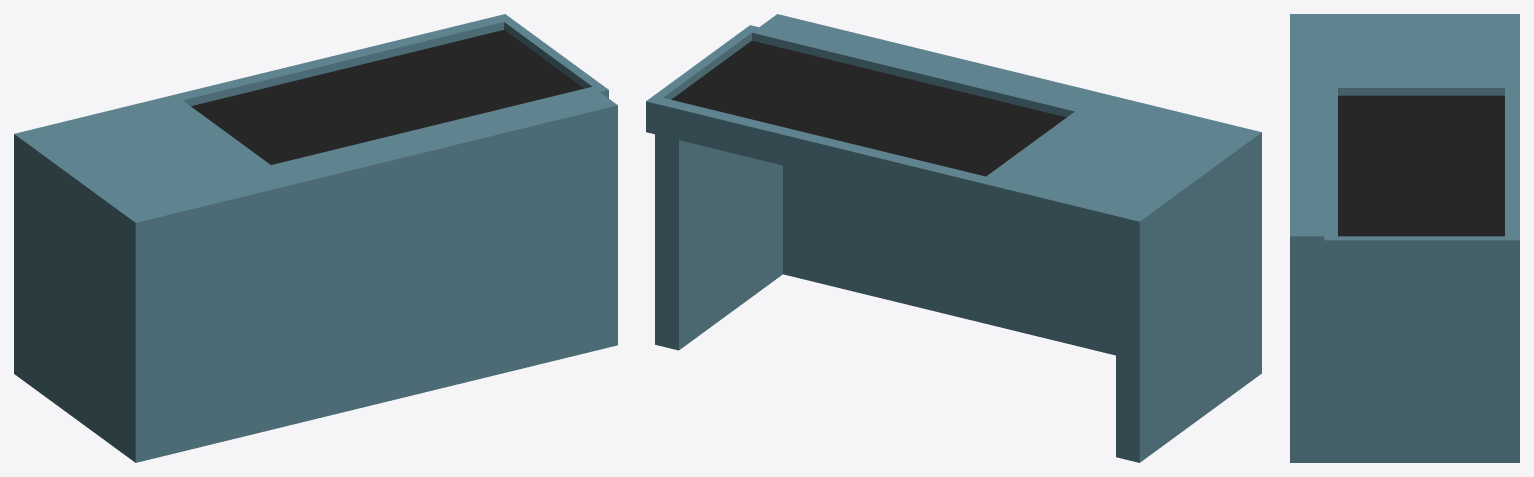
The model's file is mesa_caja_registradora.fbx.
3 views of the same model, side by side, from view 1: azimuth 30°, elevation 25°; view 2: azimuth 150°, elevation 25°; view 3: azimuth 270°, elevation 25° (orthographic). The views are drawn at different scales.
Parts seen in each view (by area): view 1: Mesa_caja_registrados; view 2: Mesa_caja_registrados; view 3: Mesa_caja_registrados.
Part boxes in pixels (left/top/right/bottom): Mesa_caja_registrados: left=14, top=14, right=617, bottom=462; Mesa_caja_registrados: left=646, top=14, right=1261, bottom=462; Mesa_caja_registrados: left=1290, top=14, right=1519, bottom=462.
Bounding box in the file's own units: 1329 × 621 × 570.
